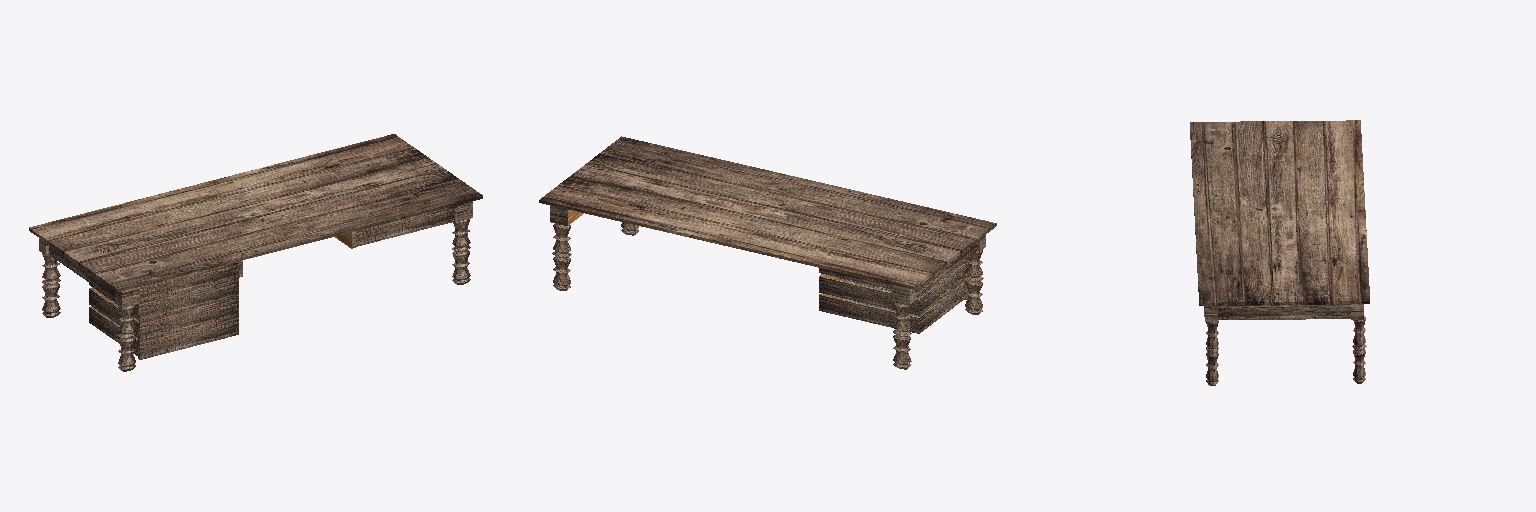
3 views of the same model, side by side, from view 1: azimuth 30°, elevation 25°; view 2: azimuth 150°, elevation 25°; view 3: azimuth 270°, elevation 25° (orthographic).
Visible parts, largest first — view 1: drawer_L6; view 2: drawer_L6; view 3: drawer_L6.
Part boxes in pixels (left/top/right/bottom): drawer_L6: left=29, top=134, right=482, bottom=371; drawer_L6: left=539, top=136, right=996, bottom=369; drawer_L6: left=1190, top=120, right=1369, bottom=385.
Size of the model in its own units: 3.72 by 0.8467 by 1.56.
Materials: 3 (3 with a texture image).